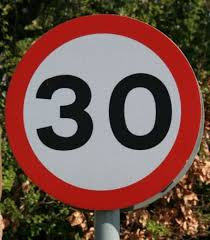Speed_limit_30km: (6, 14, 204, 212)
